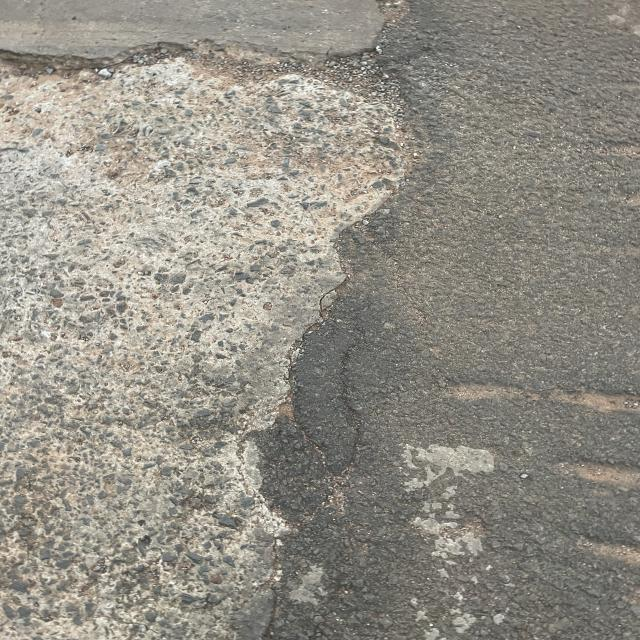D40: (0, 33, 441, 640)
D43: (438, 346, 640, 595)
